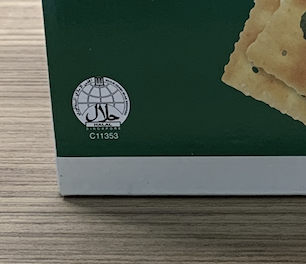halal: (76, 78, 129, 132)
